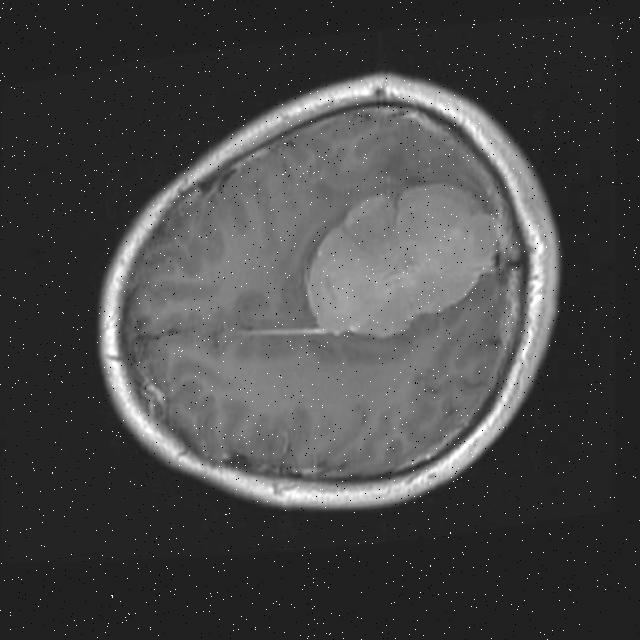Meningioma: (300, 173, 501, 344)
